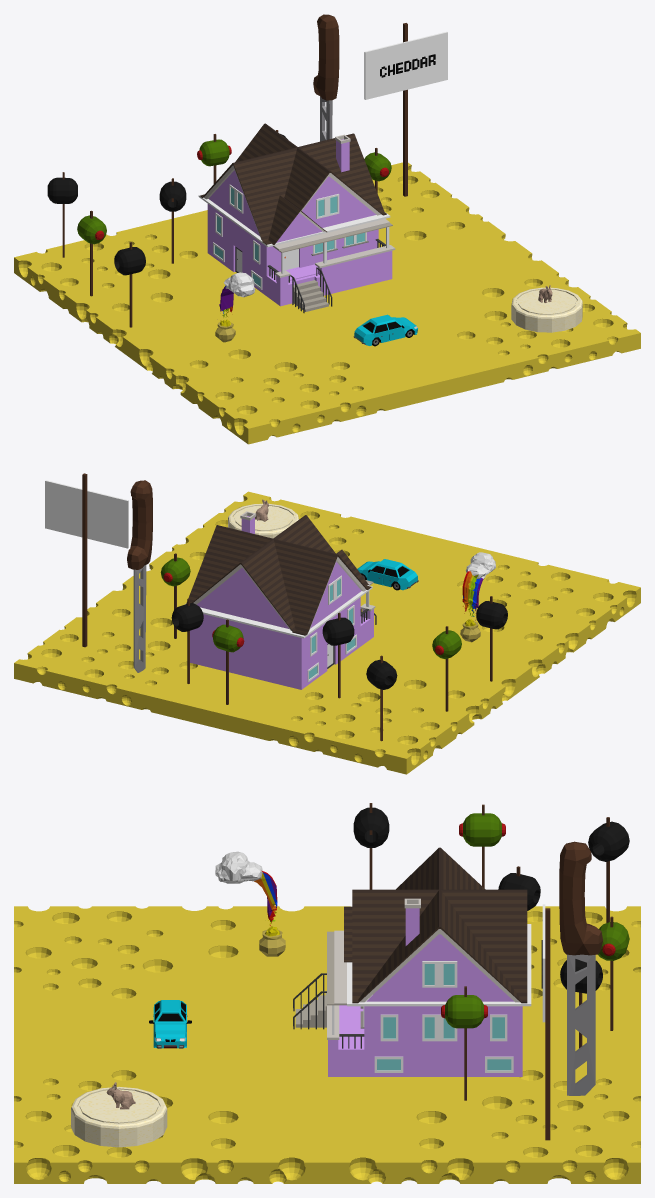
The picture shows the model from 3 angles, top to bottom: view 1: azimuth 30°, elevation 25°; view 2: azimuth 150°, elevation 25°; view 3: azimuth 270°, elevation 25°; orthographic projection. The views are drawn at different scales.
Visible parts, largest first — view 1: Cube.022, Cube.391, Cube.023, Cylinder.016, Cube.024, VEHICLES_CAR, OBJRANDOM_RAINBOW, Sphere.017, Sphere.016, Sphere.020, Sphere.018, Sphere.022 (+1 smaller); view 2: Cube.022, Cube.391, Cube.023, Cube.024, OBJRANDOM_RAINBOW, Cylinder.016, VEHICLES_CAR, Sphere.017, Sphere.020, Sphere.021, Sphere.016, Sphere.018 (+2 smaller); view 3: Cube.022, Cube.391, Cube.024, Cylinder.016, OBJRANDOM_RAINBOW, Cube.023, VEHICLES_CAR, Sphere.019, Sphere.016, Sphere.018, Sphere.017, Sphere.022 (+2 smaller).
Part boxes in pixels (<box>): Cube.022: <box>14,162,640,444</box>; Cube.391: <box>198,123,395,313</box>; Cube.023: <box>364,23,447,196</box>; Cylinder.016: <box>511,287,582,332</box>; Cube.024: <box>313,14,339,141</box>; VEHICLES_CAR: <box>353,314,417,346</box>; OBJRANDOM_RAINBOW: <box>215,272,255,342</box>; Sphere.017: <box>114,242,145,327</box>; Sphere.016: <box>47,172,77,257</box>; Sphere.020: <box>159,178,186,263</box>; Sphere.018: <box>77,210,106,296</box>; Sphere.022: <box>197,134,231,183</box>; Cube.022: <box>14,491,640,774</box>; Cube.391: <box>185,511,376,689</box>; Cube.023: <box>45,473,128,647</box>; Cube.024: <box>127,480,152,672</box>; OBJRANDOM_RAINBOW: <box>460,552,495,642</box>; Cylinder.016: <box>228,503,298,538</box>; VEHICLES_CAR: <box>357,559,418,590</box>; Sphere.017: <box>476,596,507,681</box>; Sphere.020: <box>322,612,354,698</box>; Sphere.021: <box>171,598,203,683</box>; Sphere.016: <box>366,655,397,741</box>; Sphere.018: <box>432,626,461,711</box>; Cube.022: <box>14,906,640,1183</box>; Cube.391: <box>293,847,531,1076</box>; Cube.024: <box>559,841,602,1095</box>; Cylinder.016: <box>71,1086,167,1147</box>; OBJRANDOM_RAINBOW: <box>215,851,285,956</box>; Cube.023: <box>541,904,550,1140</box>; VEHICLES_CAR: <box>149,1000,191,1048</box>; Sphere.019: <box>441,986,487,1100</box>; Sphere.016: <box>588,817,629,922</box>; Sphere.018: <box>459,804,505,887</box>; Sphere.017: <box>353,803,389,889</box>; Sphere.022: <box>598,916,629,1030</box>.
Bounding box in the file's own units: 3917 × 2007 × 4000.
49 materials, 3 textured.
